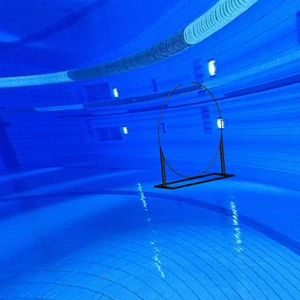circle: (153, 80, 237, 192)
